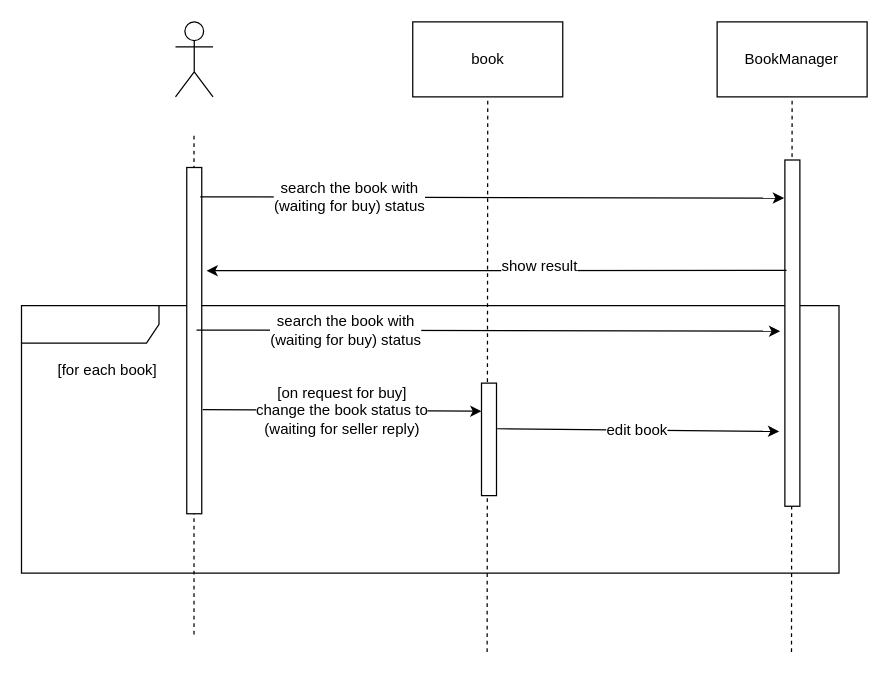
This 890x676 diagram has some shape labels left out. The box of each missing label's shape, as (x1, y1, x2, y2) in pixels:
buyer: (174, 21, 213, 97)
Loop: (20, 304, 839, 573)
